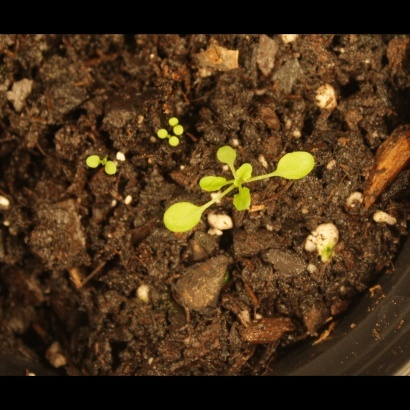leaf: (161, 200, 205, 235), (277, 149, 317, 183), (228, 186, 260, 214), (102, 152, 125, 184), (234, 159, 257, 190), (200, 171, 228, 194), (216, 141, 240, 167), (81, 152, 104, 175), (147, 123, 170, 146), (165, 136, 188, 159), (162, 104, 185, 127), (176, 118, 199, 141)
